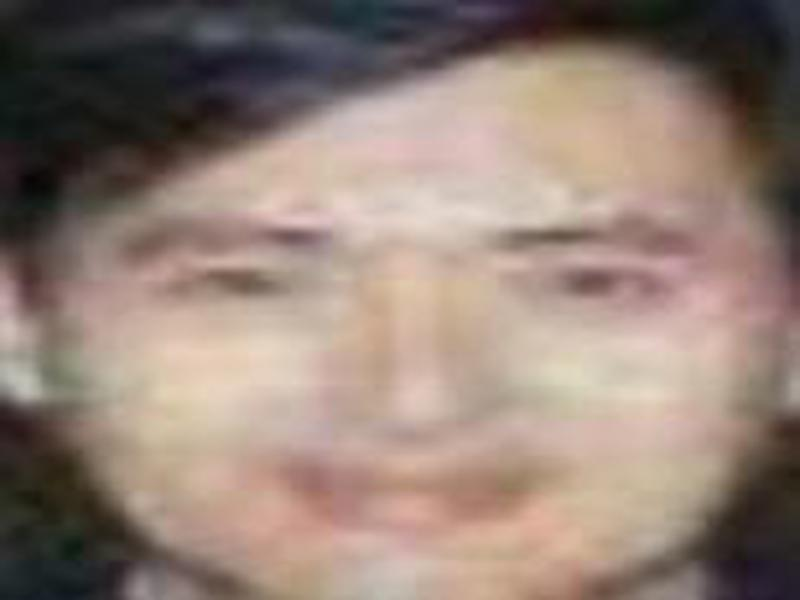without_mask: (42, 110, 772, 599)
